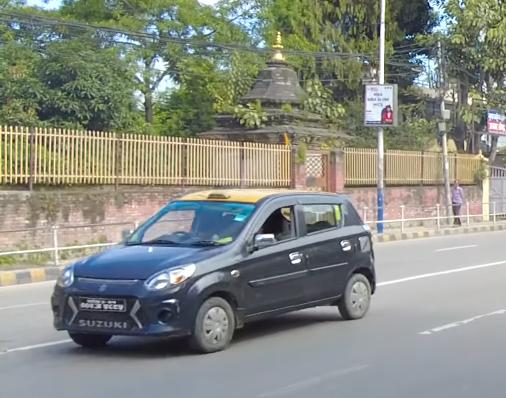taxi: (45, 181, 391, 354)
